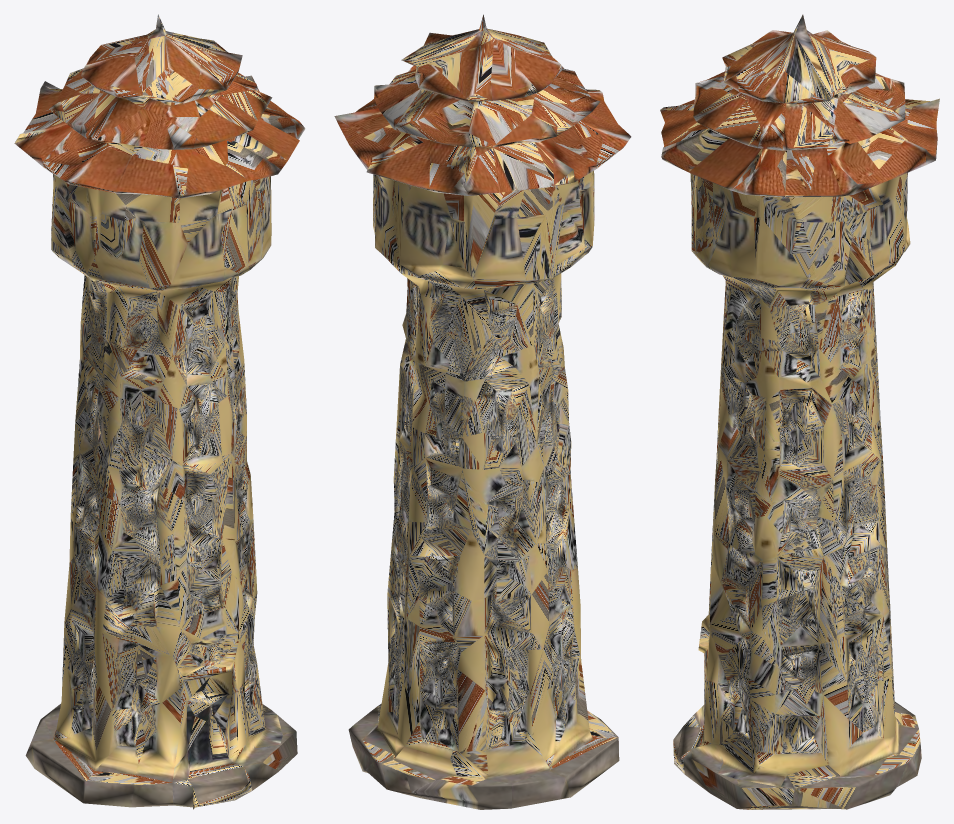
File: thap-nuoc-phan-thiet.glb
The picture shows the model from 3 angles, left to right: view 1: azimuth 30°, elevation 25°; view 2: azimuth 150°, elevation 25°; view 3: azimuth 270°, elevation 25°; orthographic projection.
Size of the model in its own units: 0.3222 by 0.9575 by 0.3267.
Materials: 1 (1 with a texture image).
